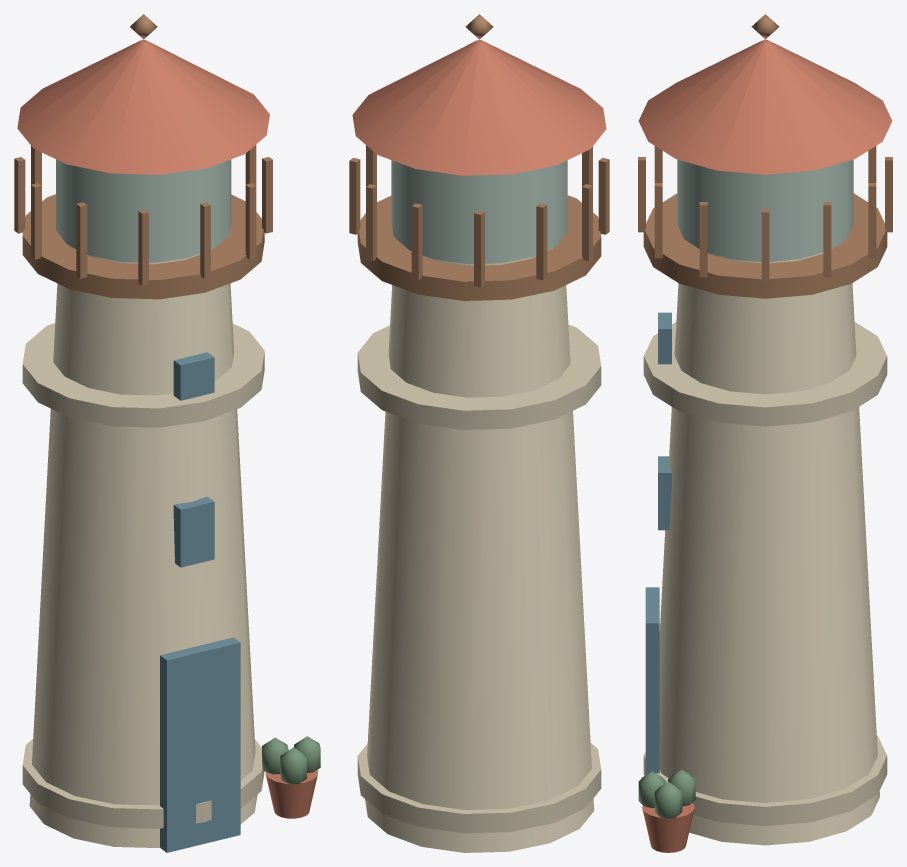
Rendered from lighthouse.glb.
3 renders of one model, left to right at view 1: azimuth 30°, elevation 25°; view 2: azimuth 150°, elevation 25°; view 3: azimuth 270°, elevation 25°, orthographic.
Visible parts, largest first — view 1: _MeshInstance3D_202, _MeshInstance3D_207, _MeshInstance3D_222, _MeshInstance3D_206, _MeshInstance3D_204, _MeshInstance3D_205, _MeshInstance3D_203, _MeshInstance3D_223, _MeshInstance3D_224, _MeshInstance3D_225, _MeshInstance3D_214, _MeshInstance3D_211 (+8 smaller); view 2: _MeshInstance3D_202, _MeshInstance3D_207, _MeshInstance3D_206, _MeshInstance3D_204, _MeshInstance3D_205, _MeshInstance3D_203, _MeshInstance3D_216, _MeshInstance3D_218, _MeshInstance3D_220, _MeshInstance3D_214, _MeshInstance3D_217, _MeshInstance3D_215 (+1 smaller); view 3: _MeshInstance3D_202, _MeshInstance3D_207, _MeshInstance3D_206, _MeshInstance3D_205, _MeshInstance3D_204, _MeshInstance3D_203, _MeshInstance3D_222, _MeshInstance3D_225, _MeshInstance3D_223, _MeshInstance3D_226, _MeshInstance3D_224, _MeshInstance3D_210 (+8 smaller).
Boxes of the visible parts, box(x1,y1,x2,y2) form: _MeshInstance3D_202: box(29, 246, 257, 847); _MeshInstance3D_207: box(17, 39, 269, 174); _MeshInstance3D_222: box(160, 637, 240, 852); _MeshInstance3D_206: box(56, 159, 231, 262); _MeshInstance3D_204: box(22, 323, 264, 427); _MeshInstance3D_205: box(22, 194, 264, 299); _MeshInstance3D_203: box(22, 739, 264, 828); _MeshInstance3D_223: box(173, 496, 214, 567); _MeshInstance3D_224: box(173, 352, 214, 400); _MeshInstance3D_225: box(265, 770, 318, 818); _MeshInstance3D_214: box(76, 202, 87, 278); _MeshInstance3D_211: box(245, 183, 256, 259); _MeshInstance3D_202: box(365, 247, 594, 852); _MeshInstance3D_207: box(352, 40, 606, 175); _MeshInstance3D_206: box(391, 160, 567, 264); _MeshInstance3D_204: box(357, 324, 601, 429); _MeshInstance3D_205: box(357, 195, 601, 300); _MeshInstance3D_203: box(357, 743, 601, 833); _MeshInstance3D_216: box(536, 203, 547, 280); _MeshInstance3D_218: box(411, 203, 422, 280); _MeshInstance3D_220: box(349, 157, 360, 234); _MeshInstance3D_214: box(598, 157, 609, 234); _MeshInstance3D_217: box(474, 210, 484, 287); _MeshInstance3D_215: box(582, 184, 592, 260); _MeshInstance3D_202: box(659, 244, 879, 845); _MeshInstance3D_207: box(638, 39, 892, 174); _MeshInstance3D_206: box(677, 159, 853, 261); _MeshInstance3D_205: box(643, 193, 887, 298); _MeshInstance3D_204: box(643, 322, 887, 426); _MeshInstance3D_203: box(643, 735, 887, 825); _MeshInstance3D_222: box(645, 587, 659, 774); _MeshInstance3D_225: box(642, 803, 694, 852); _MeshInstance3D_223: box(658, 456, 671, 530); _MeshInstance3D_226: box(654, 782, 682, 818); _MeshInstance3D_224: box(658, 312, 671, 364); _MeshInstance3D_210: box(699, 202, 707, 277).
Size of the model in its own units: 1.55 by 4.9 by 1.44.
